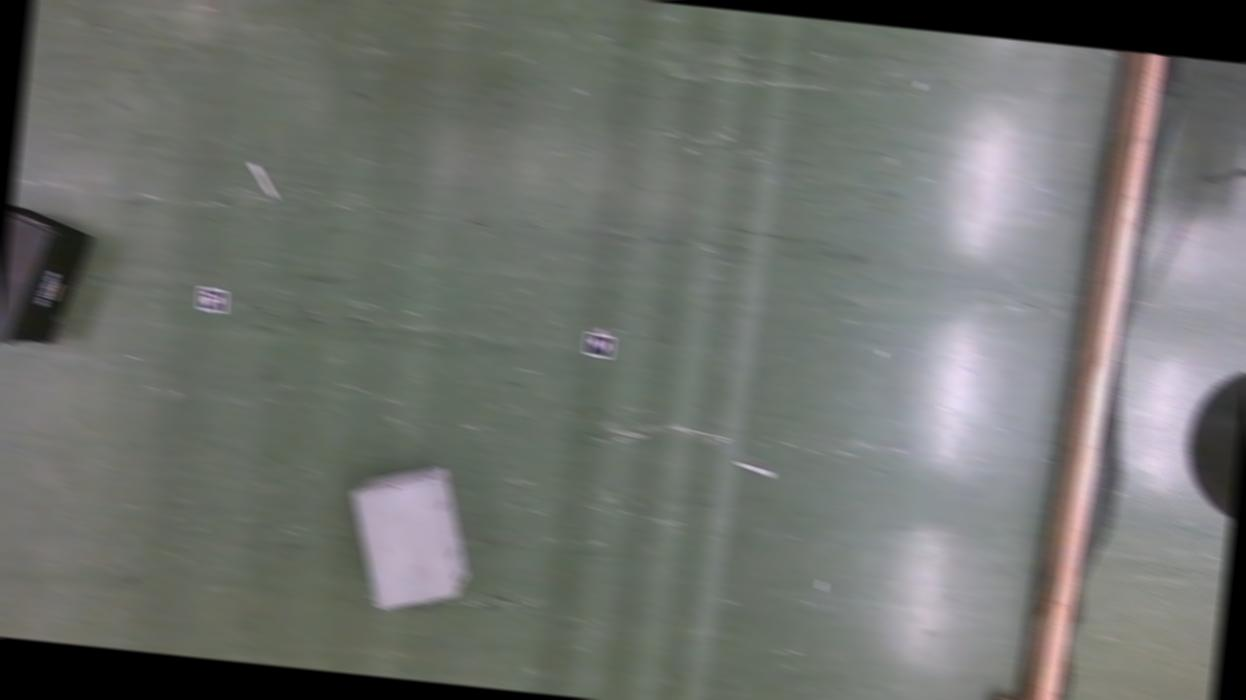probes: (244, 162, 280, 202), (732, 461, 774, 479)
rako: (335, 452, 483, 620), (0, 204, 96, 352)
